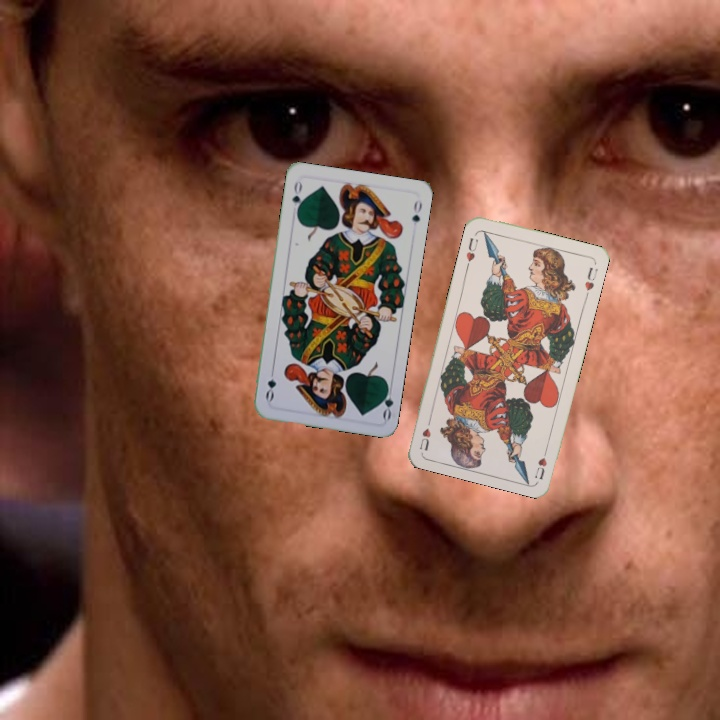GO: (376, 381, 396, 422), (288, 177, 305, 217)
HU: (531, 442, 551, 482), (462, 234, 481, 269)
